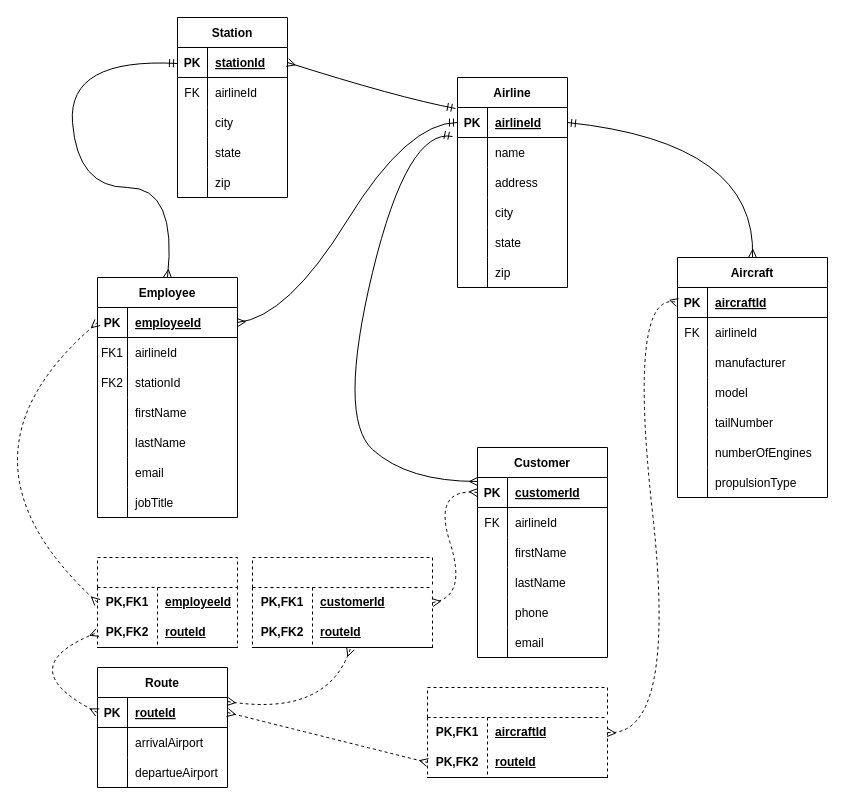
This 845x805 diagram has some shape labels left out. Here are the shapes that lost their labels. From the top down, the box of each, then its label:
(96, 556, 238, 648): CrewRoutes
(252, 556, 432, 648): CustomerRoutes
(426, 686, 608, 778): AircraftRoutes
